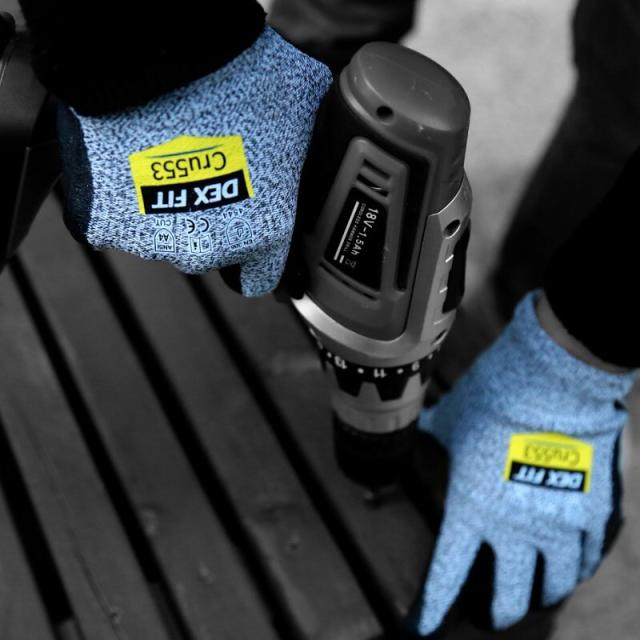gloves: (46, 9, 334, 298), (411, 289, 640, 638)
